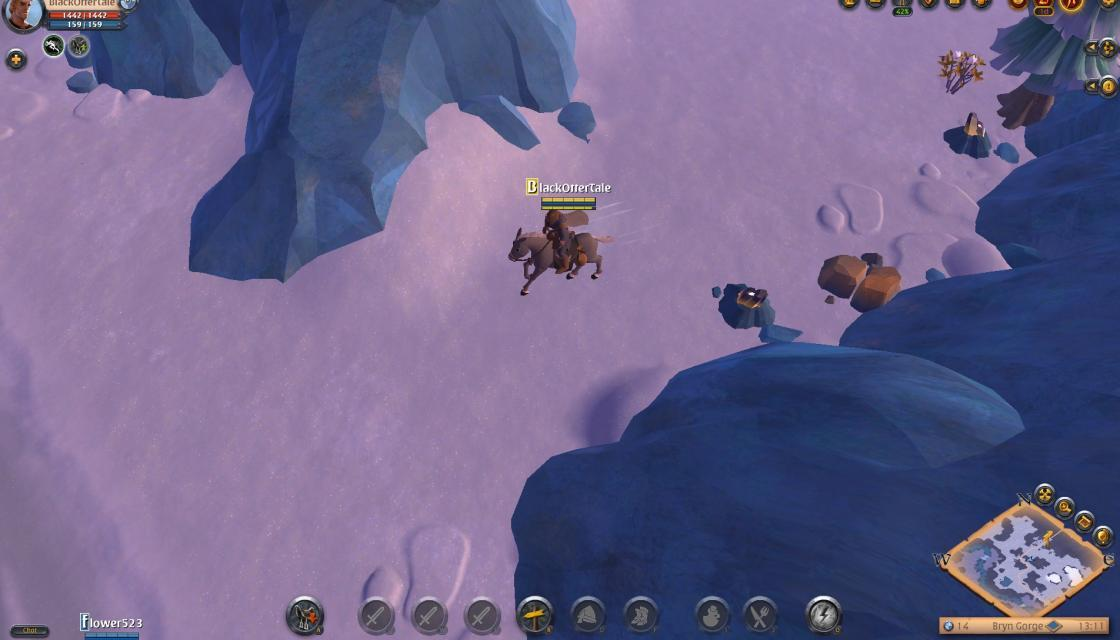copperore: (718, 278, 778, 330), (948, 108, 993, 156)
limestone: (816, 248, 900, 312)
